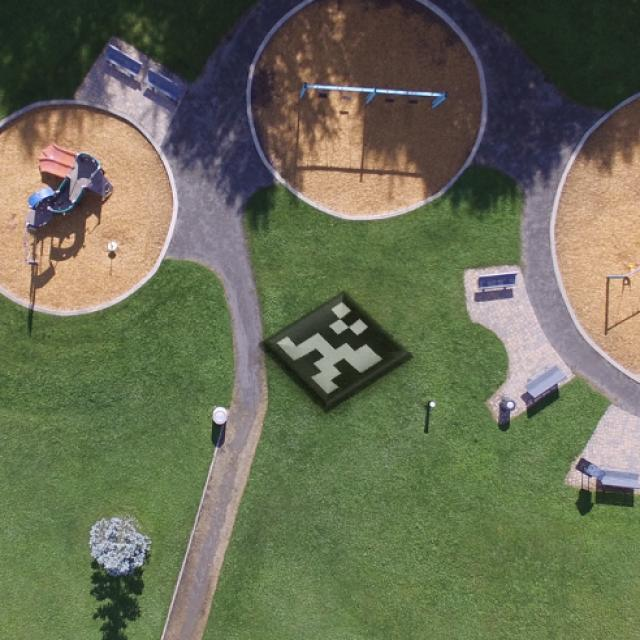marker: (256, 280, 422, 426)
